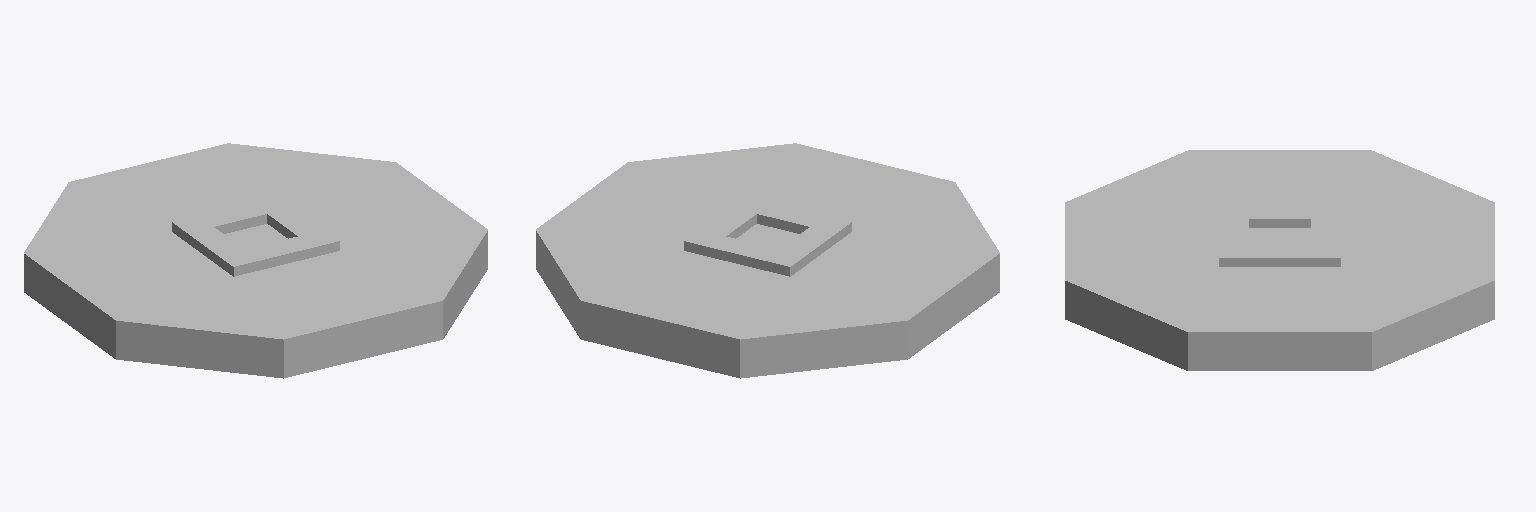
Rendered from solarCollectionBase.obj.
The picture shows the model from 3 angles: view 1: azimuth 30°, elevation 25°; view 2: azimuth 150°, elevation 25°; view 3: azimuth 270°, elevation 25°; orthographic projection.
Visible parts, largest first — view 1: Cube_Cube.002; view 2: Cube_Cube.002; view 3: Cube_Cube.002.
Part boxes in pixels (x1,y1,x2,y2): Cube_Cube.002: (24, 143, 487, 378); Cube_Cube.002: (536, 143, 999, 378); Cube_Cube.002: (1065, 150, 1494, 370).
Size of the model in its own units: 1 by 0.125 by 1.